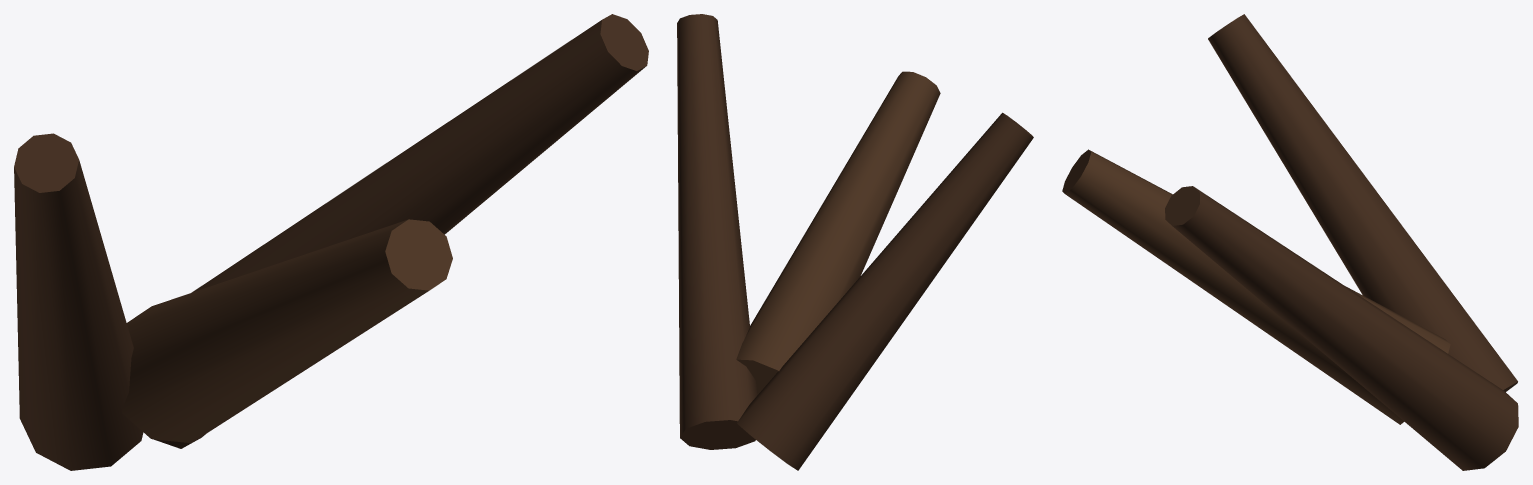
The model's file is yggdrasil-hvergelmir-tunnel-root-merged-2026-04-25T02-24-21-255Z.glb.
3 views of the same model, side by side, from view 1: azimuth 30°, elevation 25°; view 2: azimuth 150°, elevation 25°; view 3: azimuth 270°, elevation 25° (orthographic). The views are drawn at different scales.
Visible parts, largest first — view 1: Tunnel Root 3, Tunnel Root 1, Tunnel Root 2; view 2: Tunnel Root 2, Tunnel Root 1, Tunnel Root 3; view 3: Tunnel Root 2, Tunnel Root 1, Tunnel Root 3.
Boxes of the visible parts, <box> form: Tunnel Root 3: <box>122,219,452,443</box>; Tunnel Root 1: <box>14,133,143,470</box>; Tunnel Root 2: <box>154,14,648,448</box>; Tunnel Root 2: <box>677,14,757,449</box>; Tunnel Root 1: <box>736,112,1033,470</box>; Tunnel Root 3: <box>736,71,940,394</box>; Tunnel Root 2: <box>1165,186,1518,470</box>; Tunnel Root 1: <box>1208,14,1517,391</box>; Tunnel Root 3: <box>1062,149,1450,424</box>.
Size of the model in its own units: 23.1 by 18.83 by 21.91.
